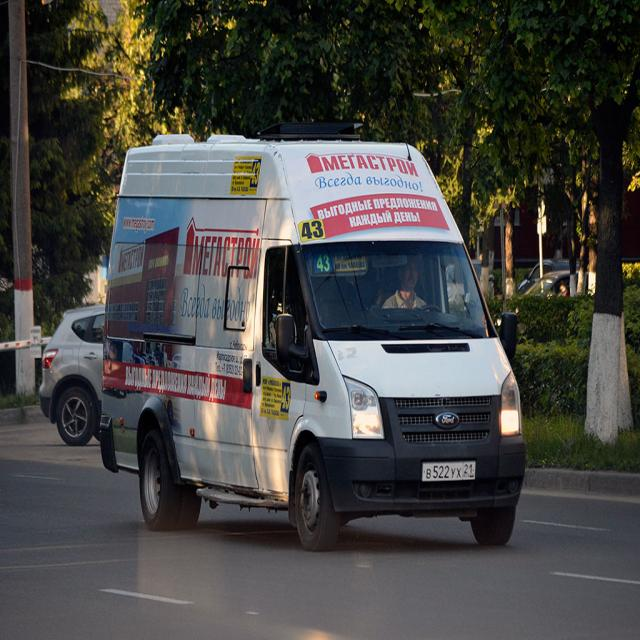number-of-bus: (302, 219, 326, 243), (281, 386, 294, 412), (317, 253, 331, 276)
